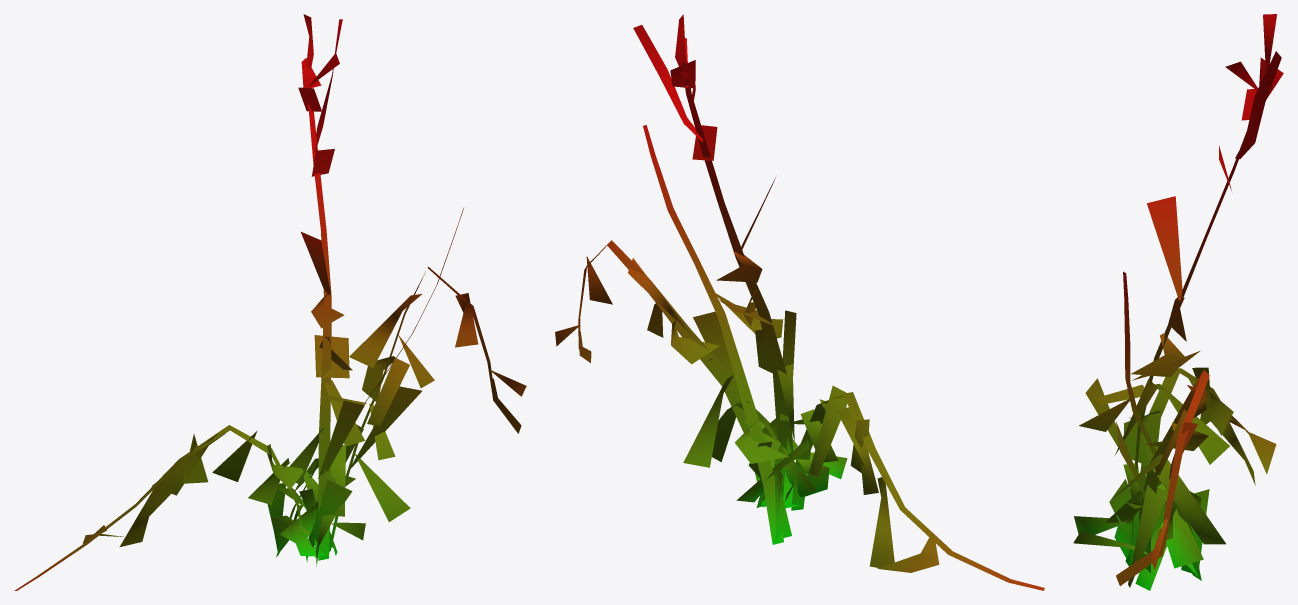
File: Var5_LOD3.fbx
3 views of the same model, side by side, from view 1: azimuth 30°, elevation 25°; view 2: azimuth 150°, elevation 25°; view 3: azimuth 270°, elevation 25° (orthographic). The views are drawn at different scales.
Parts seen in each view (by area): view 1: _07fc_Var5_LOD3; view 2: _07fc_Var5_LOD3; view 3: _07fc_Var5_LOD3.
Boxes of the visible parts, x1=… form: _07fc_Var5_LOD3: x1=14, y1=14, x2=526, y2=590; _07fc_Var5_LOD3: x1=555, y1=14, x2=1044, y2=590; _07fc_Var5_LOD3: x1=1073, y1=14, x2=1283, y2=590.
Size of the model in its own units: 44.6 by 44.19 by 14.07.
